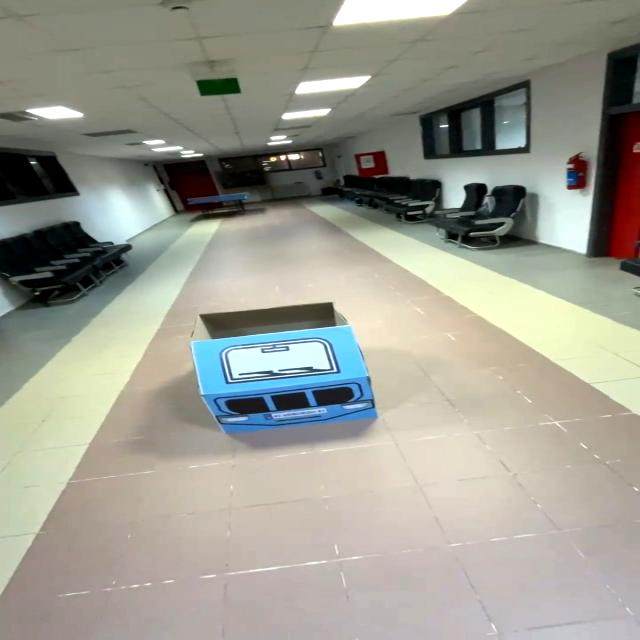blue_car: (171, 296, 415, 451)
